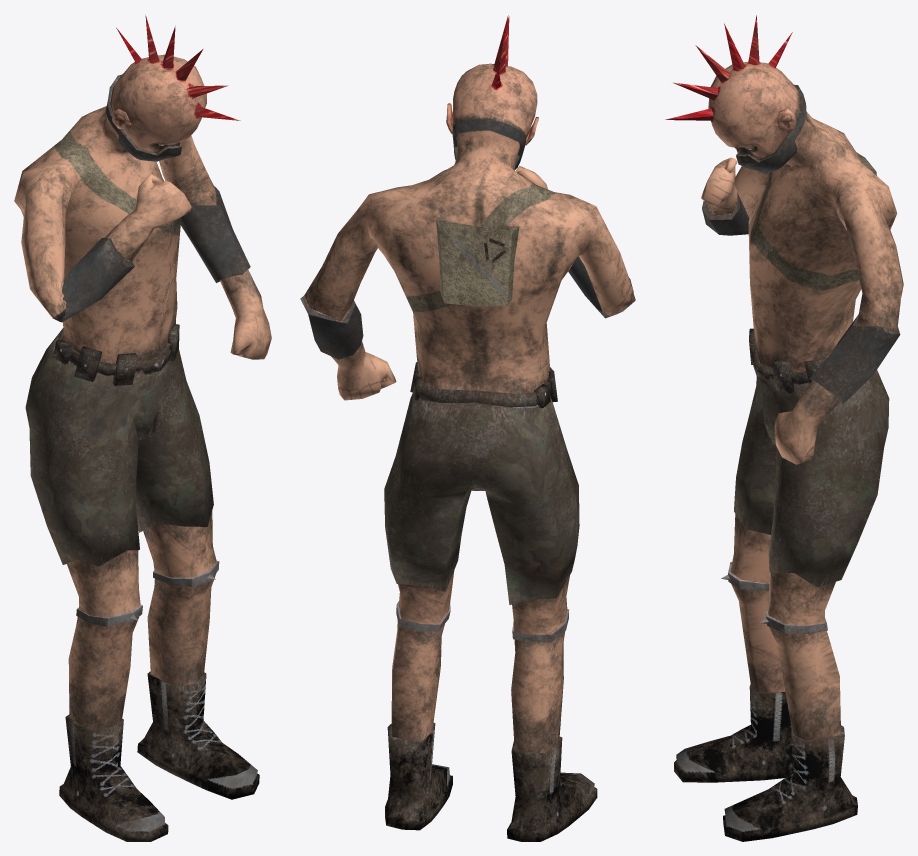
Rendered from Anim_perder_1_npc2.0043.obj.
The picture shows the model from 3 angles, left to right: view 1: azimuth 30°, elevation 25°; view 2: azimuth 150°, elevation 25°; view 3: azimuth 270°, elevation 25°; orthographic projection.
Parts seen in each view (by area): view 1: polySurface1; view 2: polySurface1; view 3: polySurface1.
Part boxes in pixels (x1,y1,x2,y2): polySurface1: (14, 15, 271, 841); polySurface1: (300, 15, 635, 841); polySurface1: (665, 15, 903, 841).
Size of the model in its own units: 3.4 by 9.76 by 2.73.
Materials: 2 (2 with a texture image).
